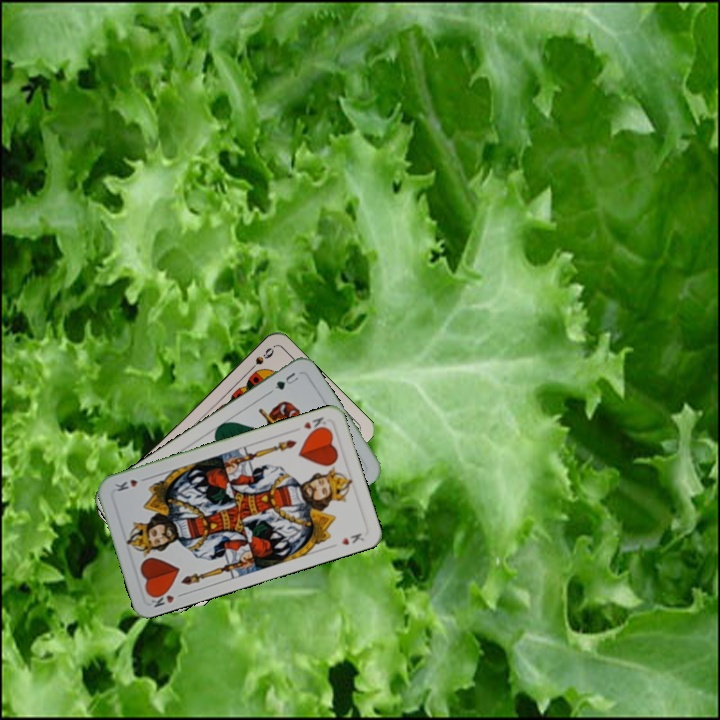GU: (271, 368, 301, 392)
HK: (146, 586, 187, 610), (299, 413, 329, 436)
S9: (244, 343, 276, 375)
